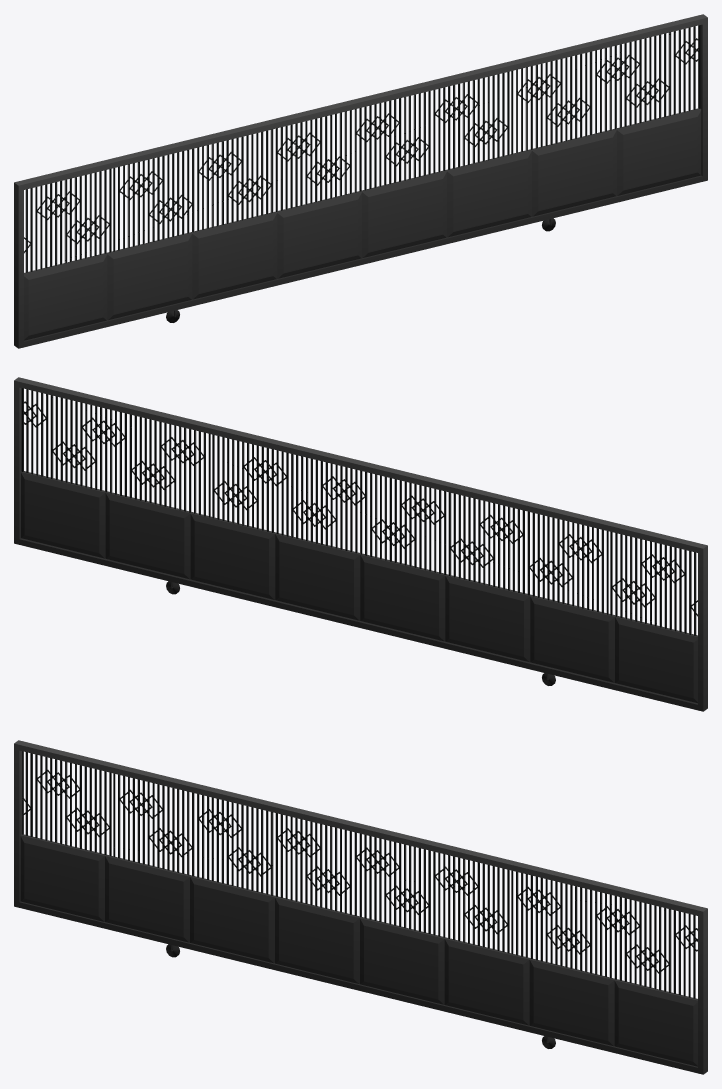
The model's file is GerbangSekolah1.fbx.
The picture shows the model from 3 angles, top to bottom: view 1: azimuth 30°, elevation 25°; view 2: azimuth 150°, elevation 25°; view 3: azimuth 330°, elevation 25°; orthographic projection.
Visible parts, largest first — view 1: GerabangSekolah_LOD0; view 2: GerabangSekolah_LOD0; view 3: GerabangSekolah_LOD0.
Boxes of the visible parts, bbox=[...] form: GerabangSekolah_LOD0: bbox=[14, 14, 707, 348]; GerabangSekolah_LOD0: bbox=[14, 377, 707, 711]; GerabangSekolah_LOD0: bbox=[14, 740, 707, 1074].
Size of what is drawn, in the model's own units: 1727 by 424 by 21.8.
